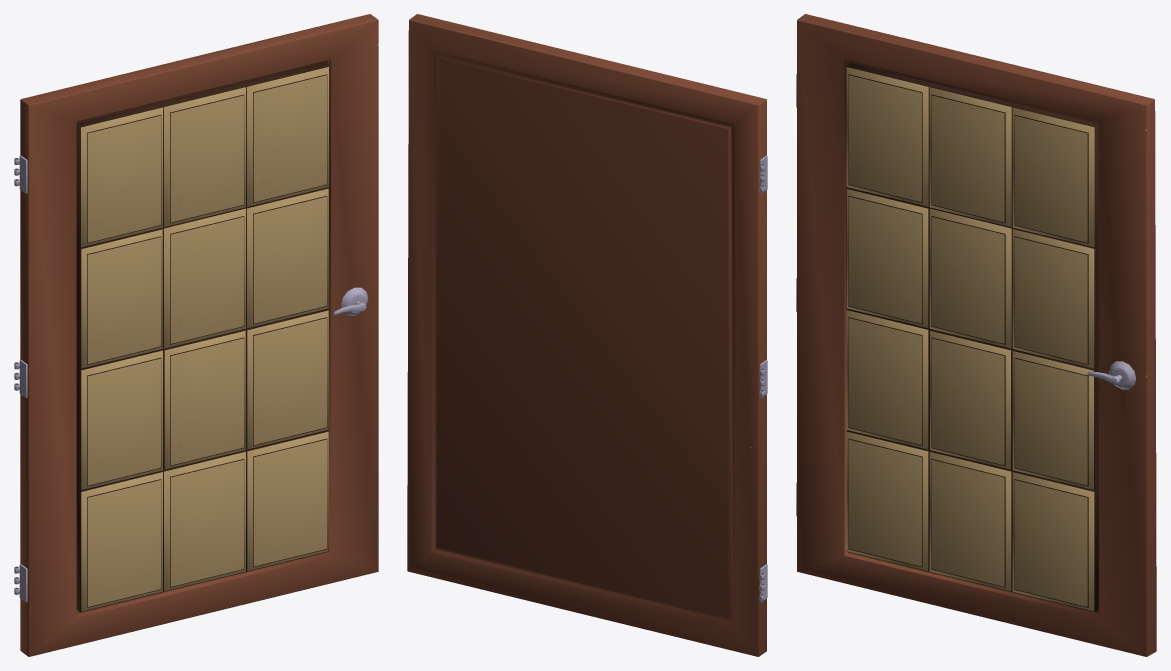
Rendered from Porta.fbx.
The picture shows the model from 3 angles, left to right: view 1: azimuth 30°, elevation 25°; view 2: azimuth 150°, elevation 25°; view 3: azimuth 330°, elevation 25°; orthographic projection.
Parts seen in each view (by area): view 1: Porta; view 2: Porta; view 3: Porta.
Boxes of the visible parts, <box> form: Porta: <box>14,14,378,656</box>; Porta: <box>407,14,767,656</box>; Porta: <box>796,14,1156,656</box>.
Bounding box in the file's own units: 204 × 301 × 17.93.
